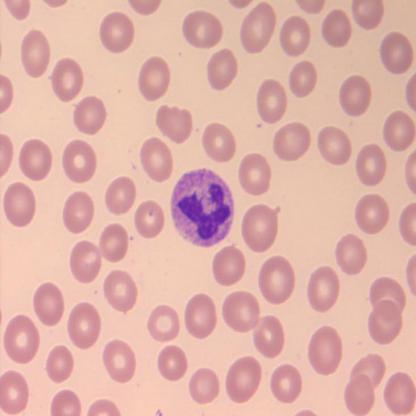Segmented neutrophil: (168, 165, 236, 249)
